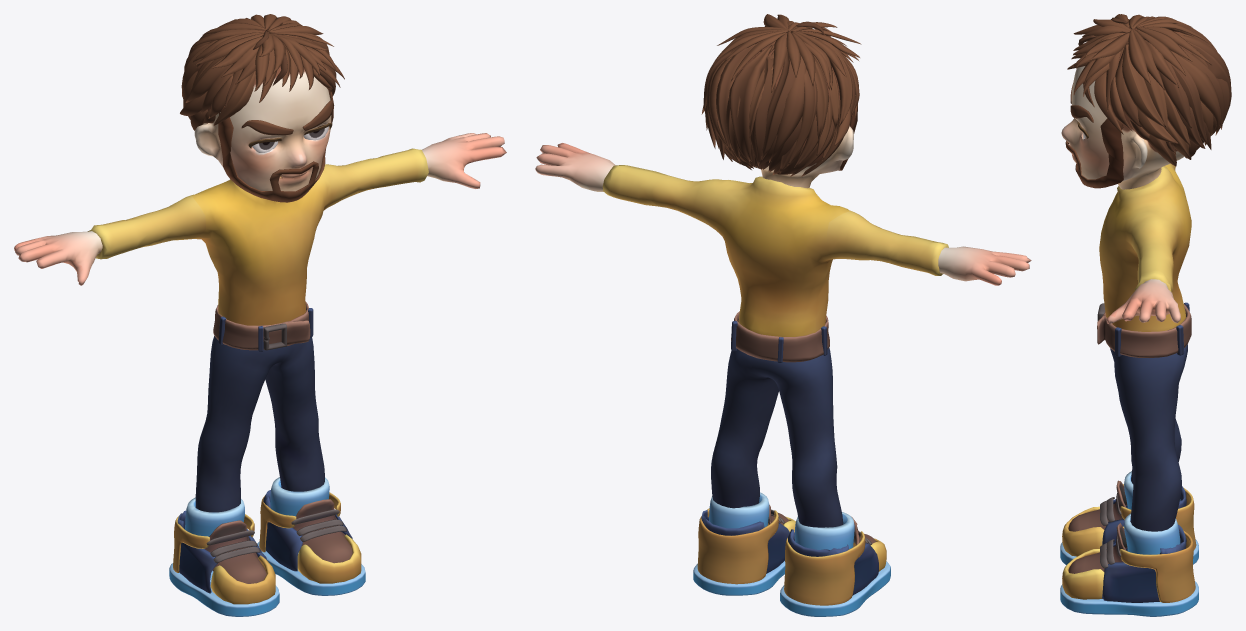
File: PROF2_low.fbx
The picture shows the model from 3 angles, left to right: view 1: azimuth 30°, elevation 25°; view 2: azimuth 150°, elevation 25°; view 3: azimuth 270°, elevation 25°; orthographic projection.
Parts seen in each view (by area): view 1: prof2.low; view 2: prof2.low; view 3: prof2.low.
Part boxes in pixels (left/top/right/bottom): prof2.low: left=14, top=14, right=506, bottom=616; prof2.low: left=535, top=14, right=1031, bottom=616; prof2.low: left=1060, top=14, right=1231, bottom=616.
Size of the model in its own units: 226 by 245 by 68.5.
